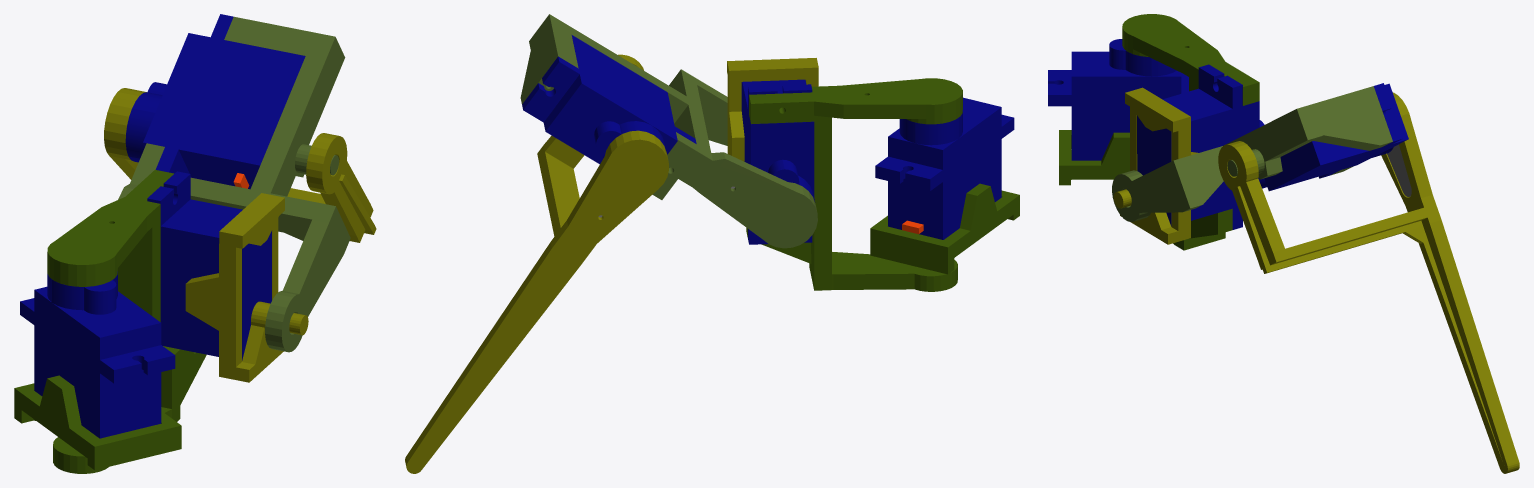
File: back-left-leg-whole.glb
3 views of the same model, side by side, from view 1: azimuth 30°, elevation 25°; view 2: azimuth 150°, elevation 25°; view 3: azimuth 270°, elevation 25° (orthographic). The views are drawn at different scales.
Visible parts, largest first — view 1: 9g Servo (×3), object 9, object 11, object 4, object 1, object 7; view 2: 9g Servo (×3), object 7, object 9, object 11, object 1, object 4; view 3: 9g Servo (×3), object 7, object 9, object 11, object 4, object 1, Servo Arm#1.
Part boxes in pixels (x1,y1,x2,y2): 9g Servo (×3): (20,14,305,438); object 9: (118,16,350,352); object 11: (47,170,206,473); object 4: (185,193,308,382); object 1: (14,375,181,470); object 7: (104,88,376,242); 9g Servo (×3): (522,35,1014,244); object 7: (405,54,668,473); object 9: (520,14,817,248); object 11: (746,78,962,291); object 1: (870,183,1019,274); object 4: (727,58,818,161); 9g Servo (×3): (1048,39,1408,229); object 7: (1218,92,1519,473); object 9: (1112,86,1392,221); object 11: (1122,14,1259,250); object 4: (1113,87,1197,244); object 1: (1059,130,1129,185); Servo Arm#1: (1387,144,1411,196).
Bounding box in the file's own units: 0.0826 × 0.0798 × 0.0966.
